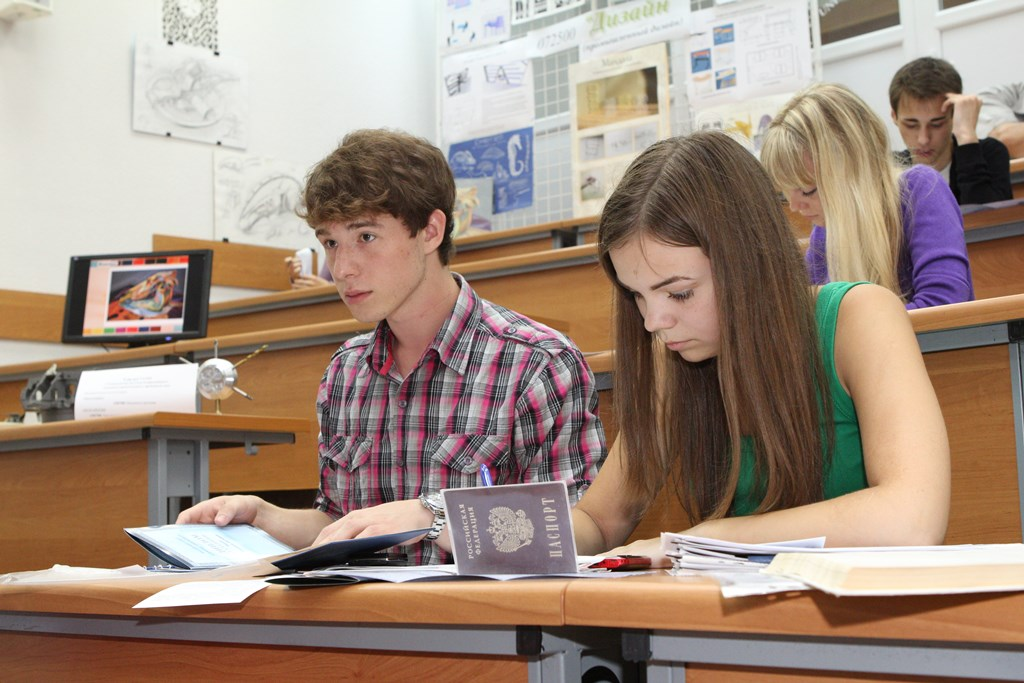students: (175, 127, 606, 570), (570, 128, 952, 553), (761, 83, 976, 303), (887, 59, 1015, 199)
